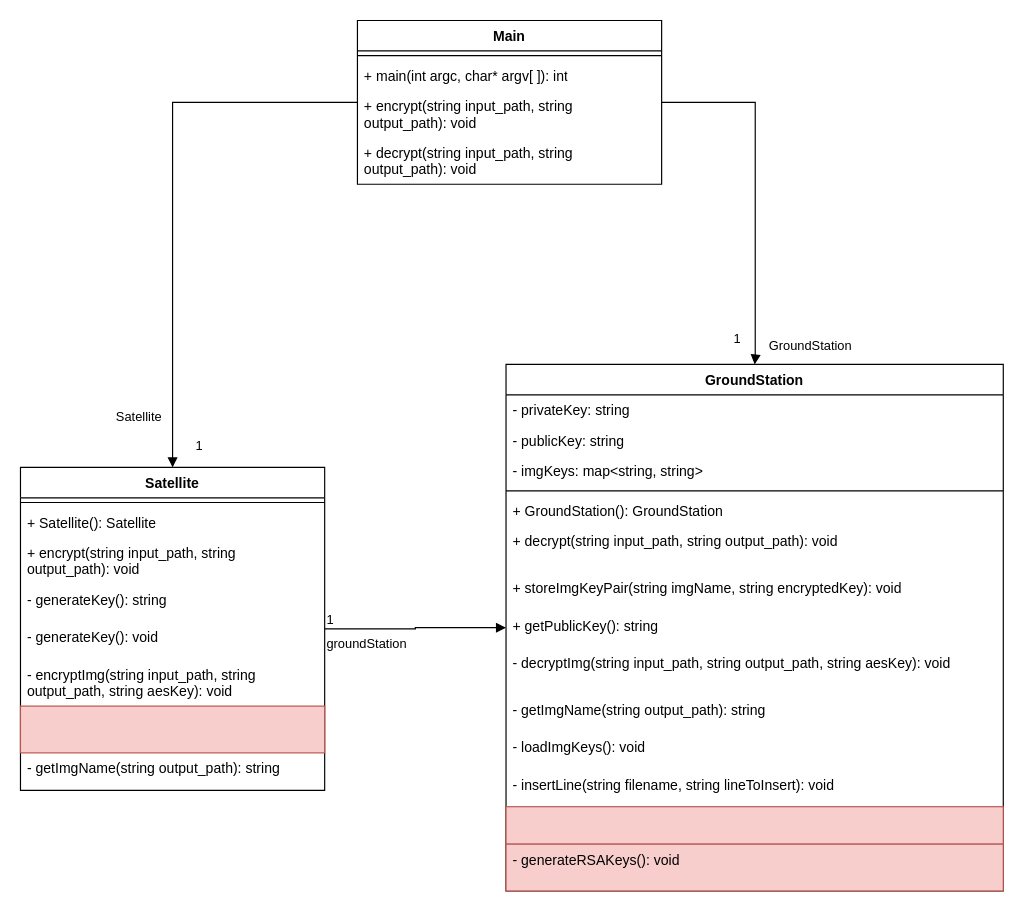
Image size: 1024x915. Some labels were removed from this diagram. Here are the shapes that lost their labels. From the top down, the centre of each, then its label:
At point 172,729: "- encryptKey(string publicKey, string aesKey): string".
At point 754,825: "- decryptAESKey(string encryptedAesKey): string".
